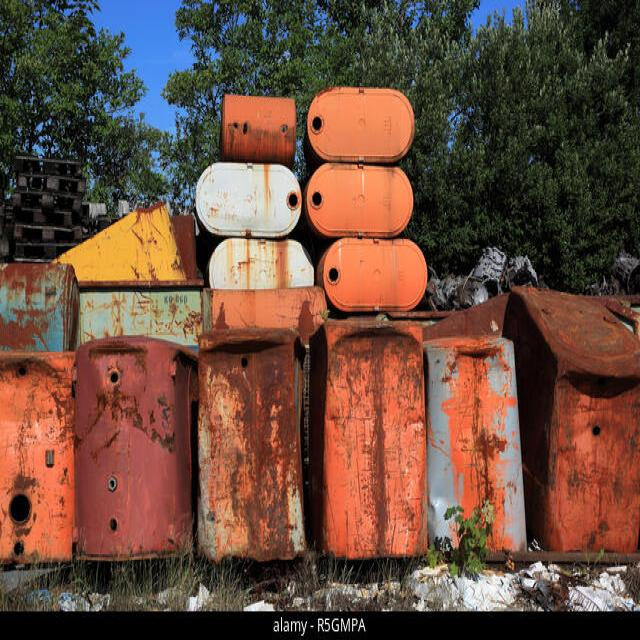metal: (54, 272, 548, 533)
